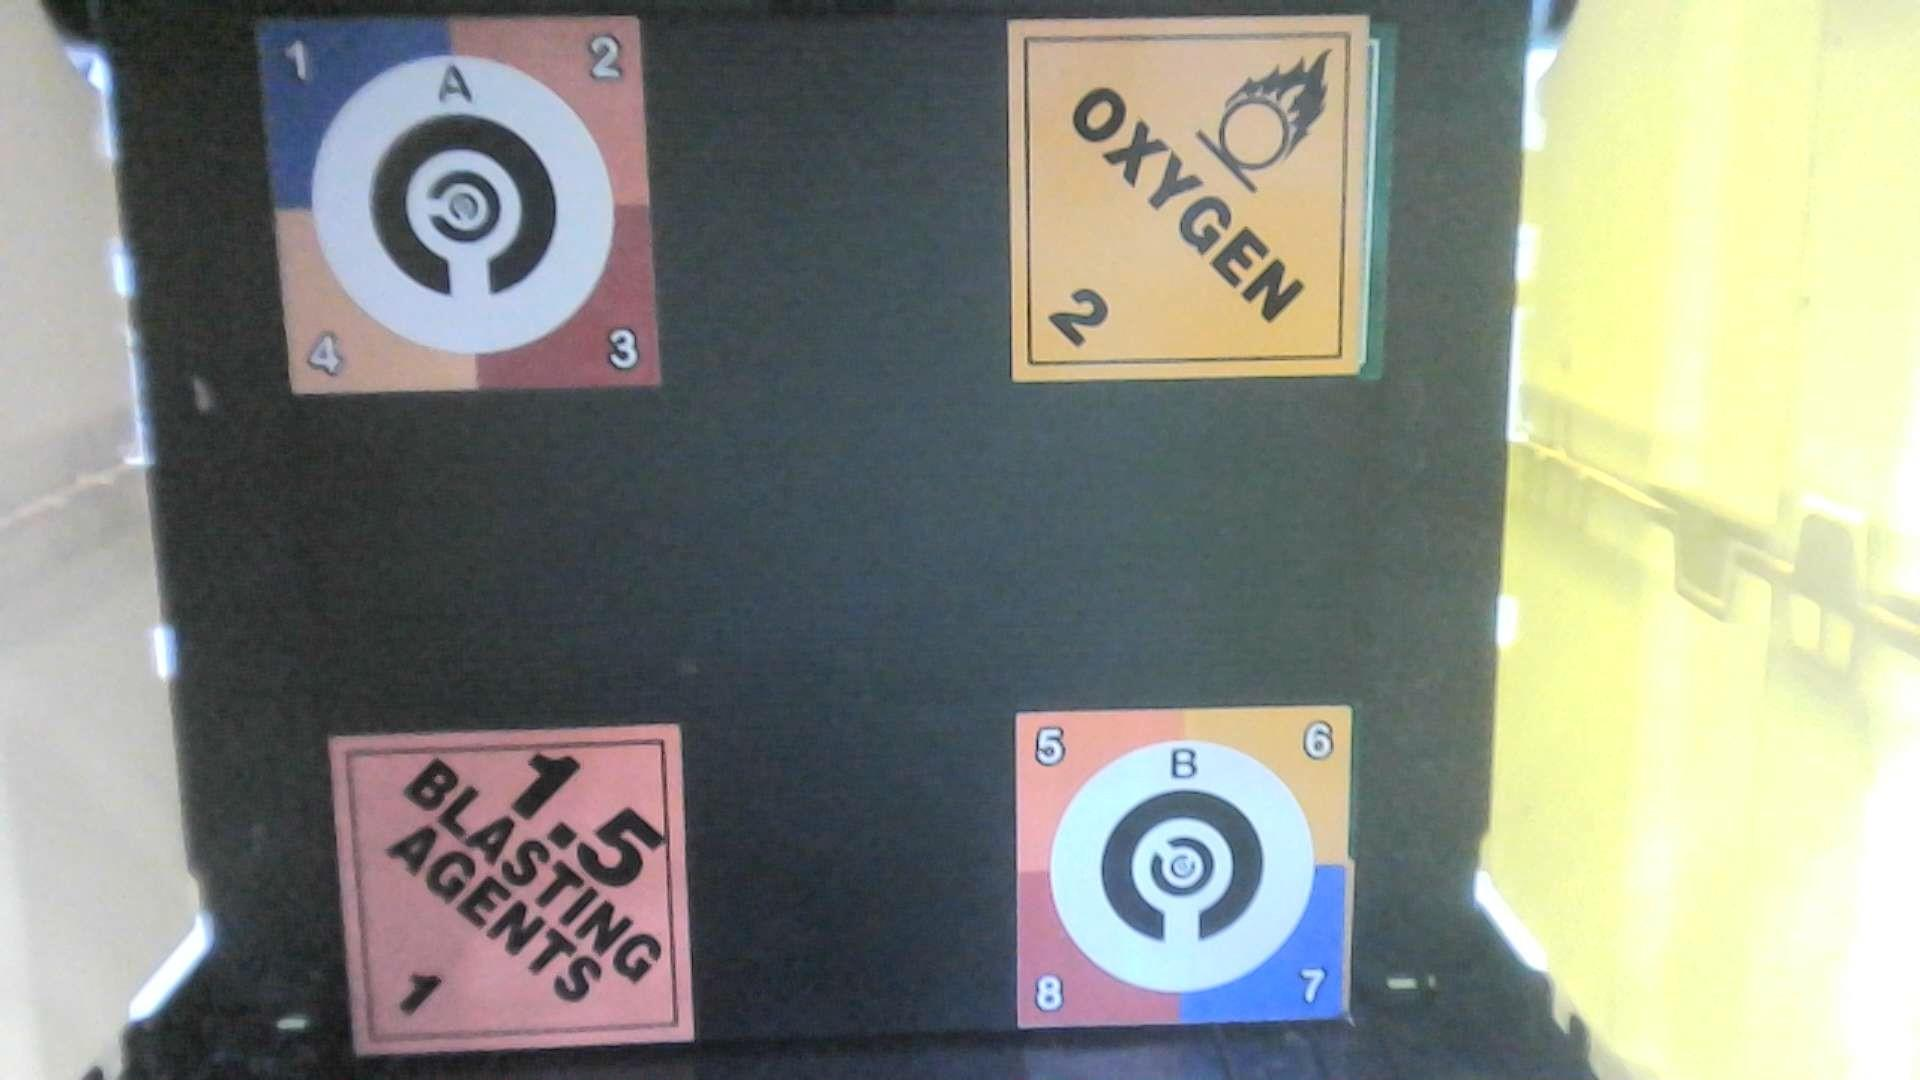explosive: (322, 727, 724, 1062)
oxidizer: (1004, 18, 1382, 404)
